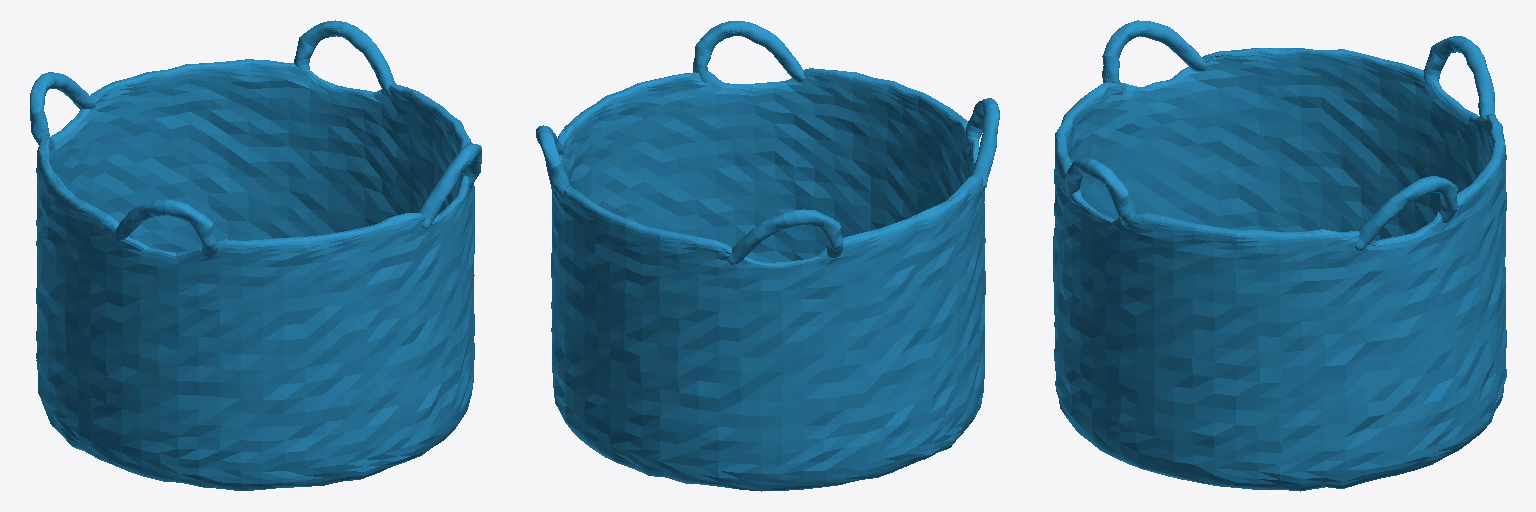
robot.urdf — model.urdf:
<?xml version="0.0" ?>
<robot name="model.urdf">
  <link name="baseLink">
    <contact>
      <friction_anchor/>
      <lateral_friction value="0.3"/>
      <rolling_friction value="0.0"/>
      <contact_cfm value="0.0"/>
      <contact_erp value="1.0"/>
    </contact>
    <inertial>
       <origin rpy="0 0 0" xyz="0 0 0"/>
       <mass value="0.1"/>
       <inertia ixx="8e-05" ixy="0" ixz="0" iyy="0.0002" iyz="0" izz="0.0002"/>
    </inertial>
    <visual>
                 <origin rpy="0 0 0" xyz="0 0 0"/>
      <geometry>

        <mesh filename="model.stl" scale=".008 .008 .008"/>
      </geometry>
<material name="sea_blue">
  <color rgba="0.2 0.6 0.8 1"/>
</material>
    </visual>
    <collision>
           <origin rpy="0 0 0" xyz="0 0 0"/>
      <geometry>
    	 	<mesh filename="model.stl"  scale=".008 .008 .008"/>
      </geometry>
    </collision>
  </link>
</robot>

--- Render facts (derived) ---
3 views of the same robot in one strip: view 1: azimuth 30°, elevation 25°; view 2: azimuth 150°, elevation 25°; view 3: azimuth 270°, elevation 25° (orthographic).
Robot: model.urdf — 1 links, 0 joints (none); root link baseLink; default pose: all joints at 0.
Visible links, largest first — view 1: baseLink; view 2: baseLink; view 3: baseLink.
Link boxes in pixels (x1=…): baseLink: x1=30, y1=20, x2=481, y2=490; baseLink: x1=536, y1=21, x2=999, y2=491; baseLink: x1=1053, y1=20, x2=1506, y2=491.
Size in the robot's own frame: 0.1546 by 0.1547 by 0.1157 metres.
Meshes: 1 distinct files referenced, 1 mesh visuals loaded (1 binary STL).